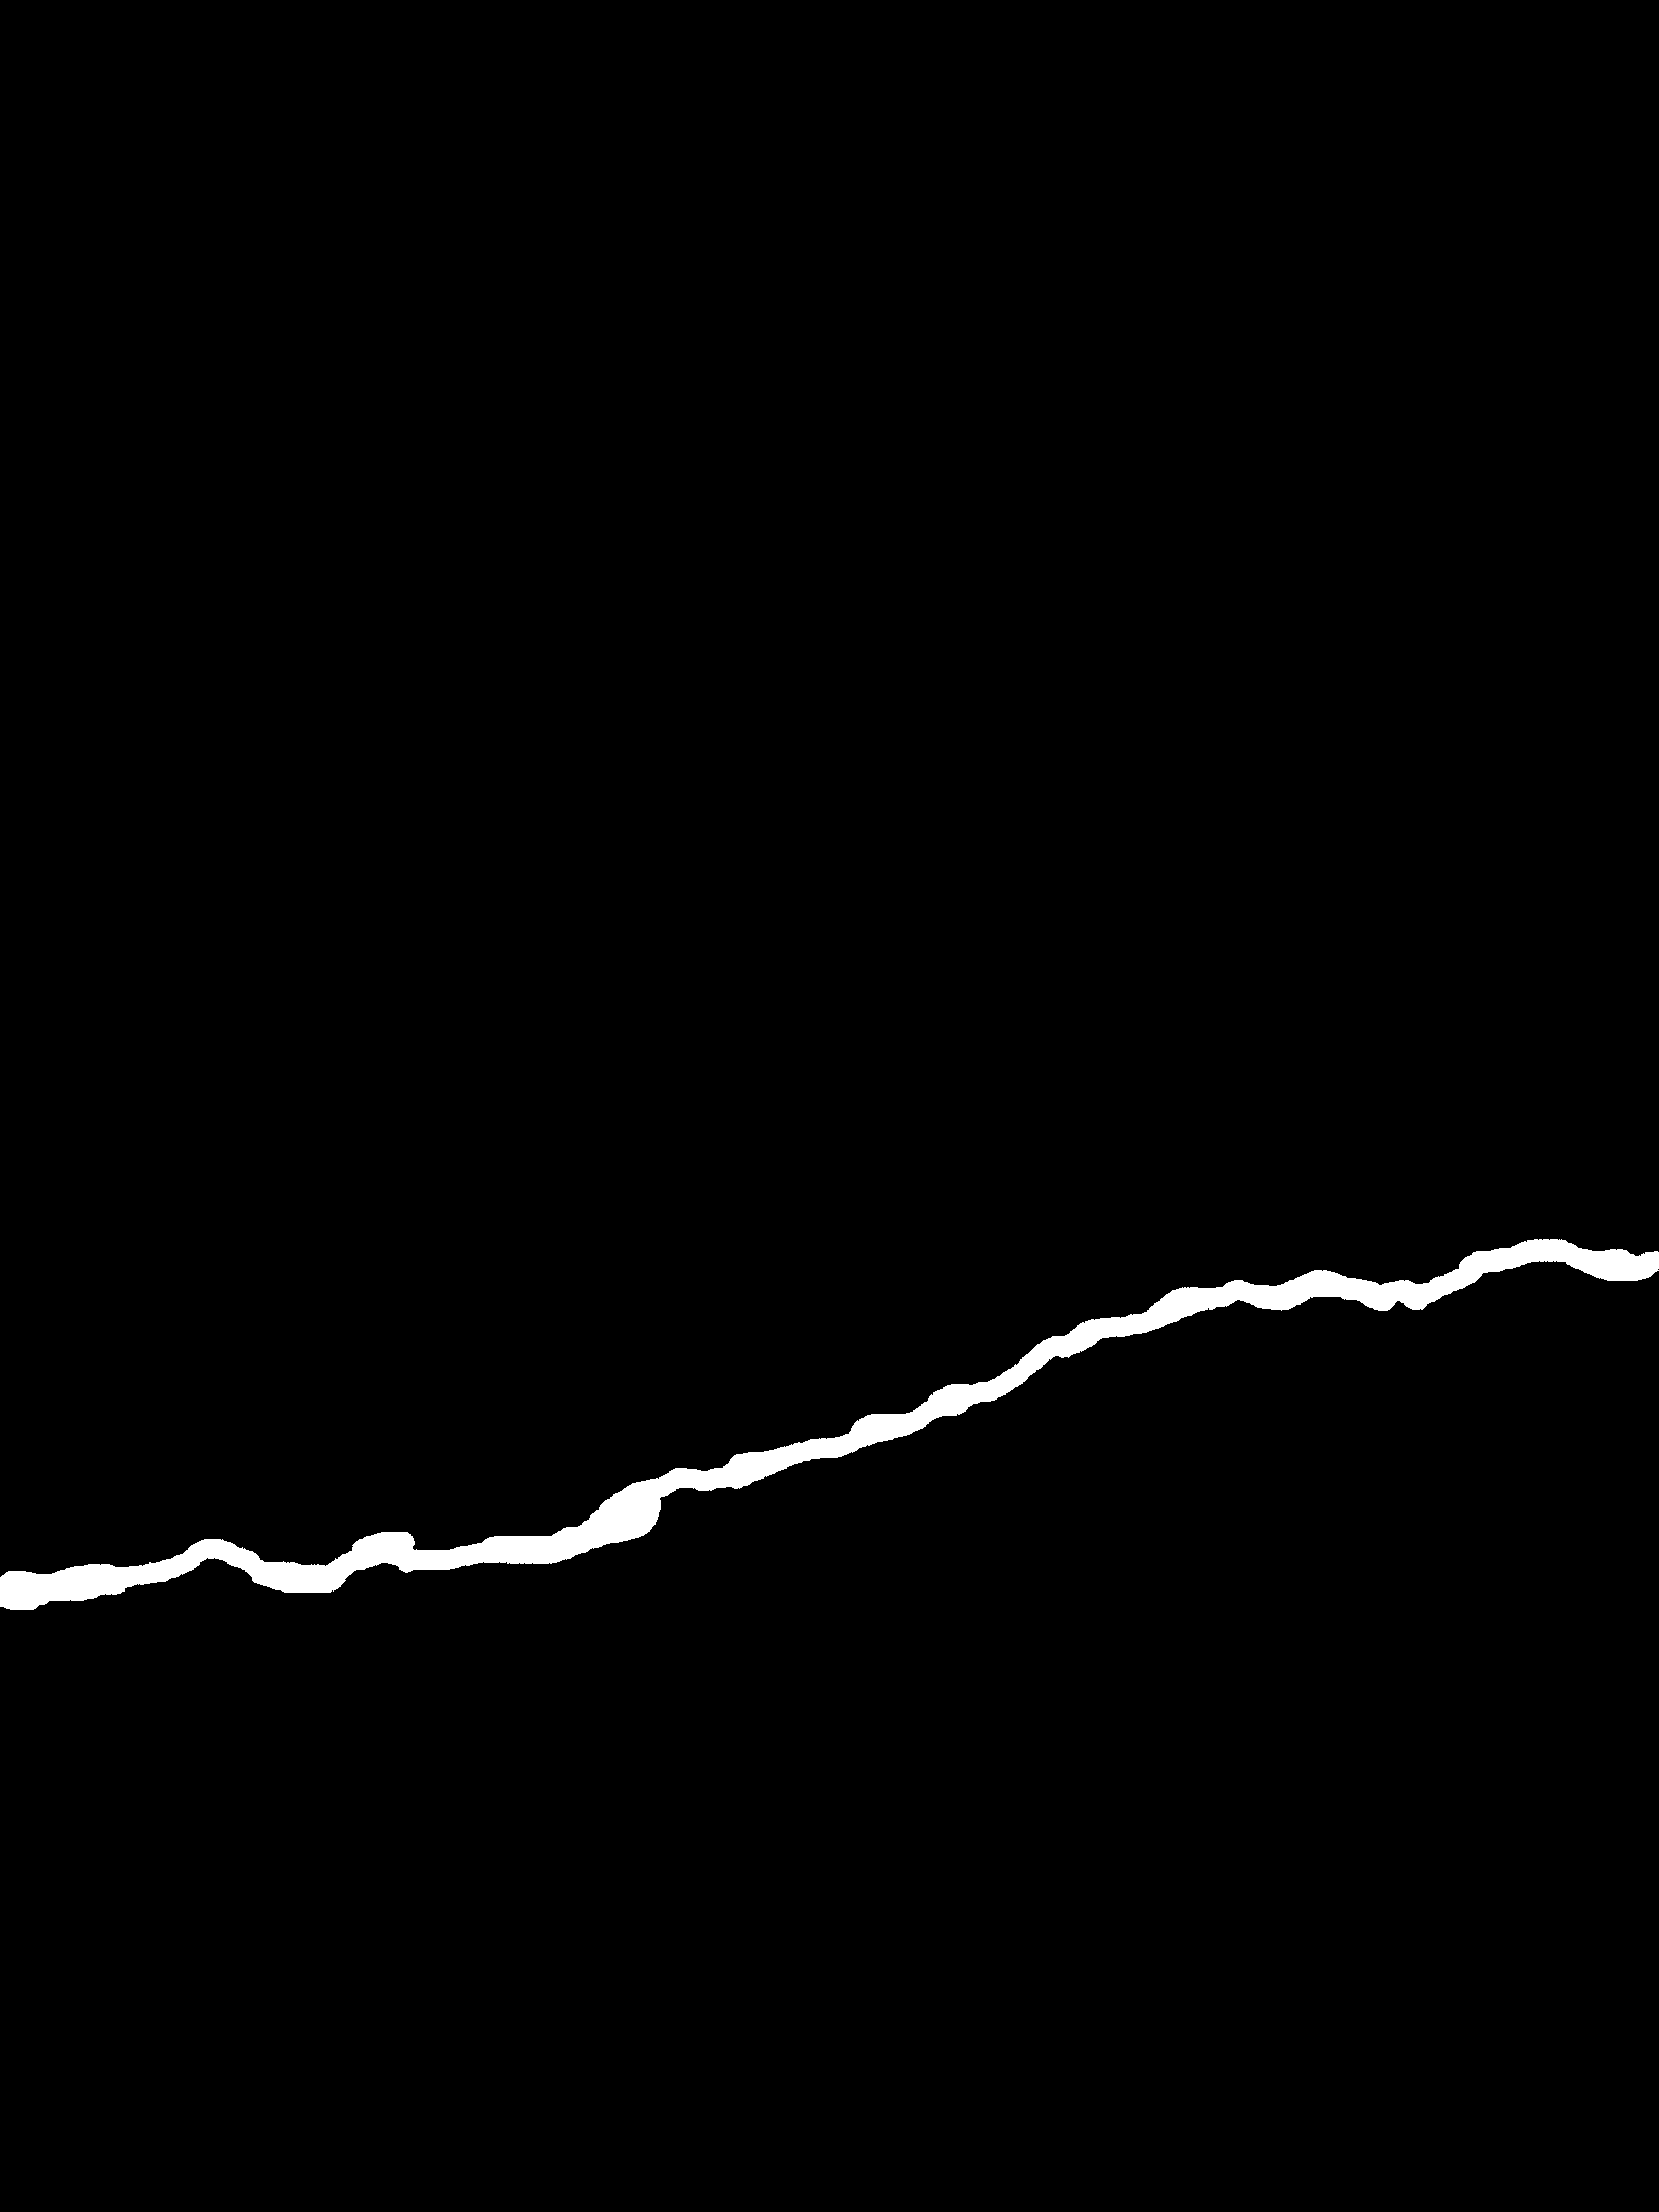Crack: (0, 1211, 1659, 1648)
